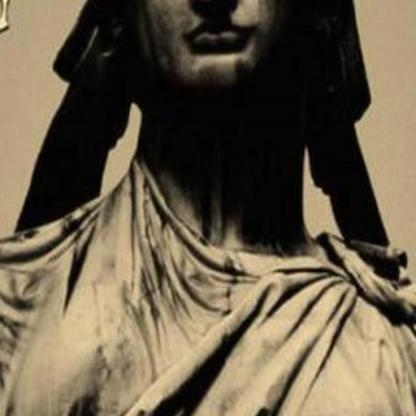gun: (0, 0, 115, 138)
